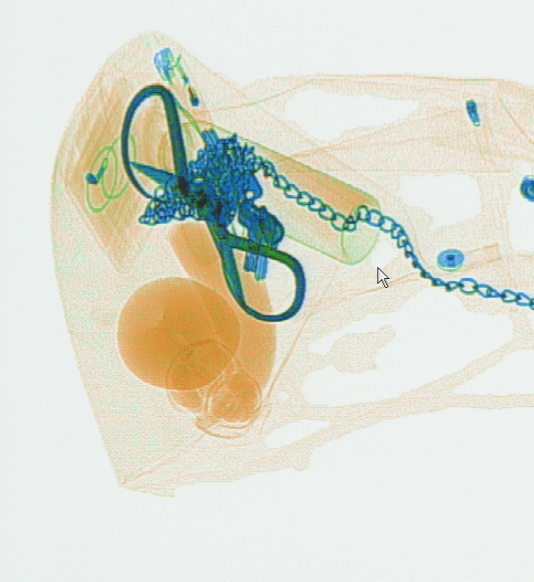lighter: (152, 44, 225, 149)
pressure: (157, 121, 380, 264)
scissors: (117, 85, 306, 322)
